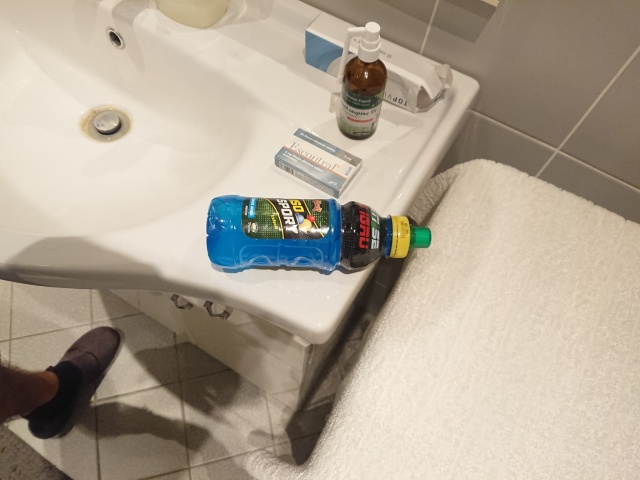Vindi Iso Sport Forest Strawberries 500mL: (203, 193, 432, 274)
